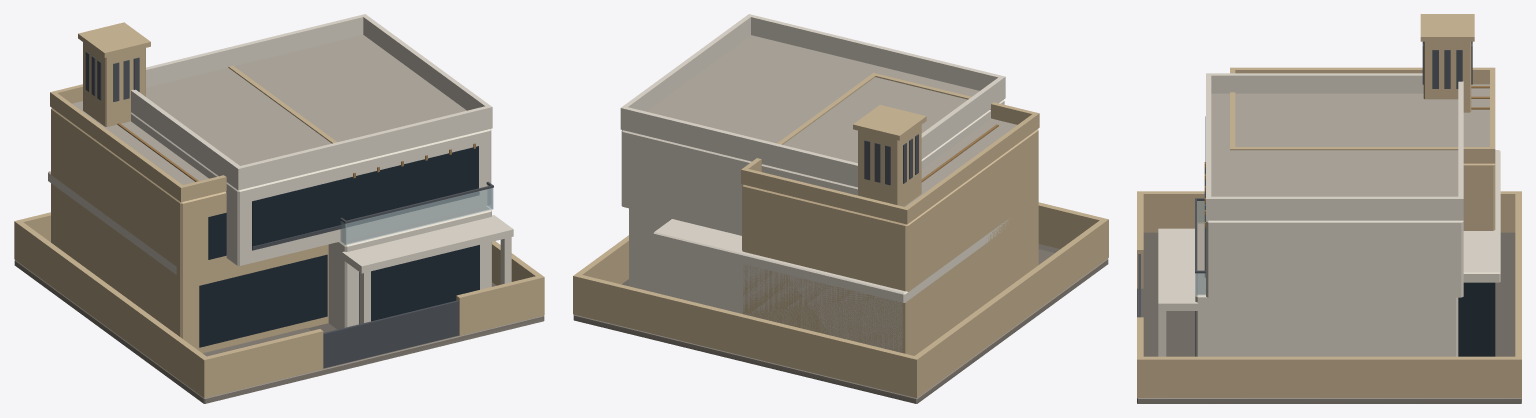
The model's file is villa.glb.
3 renders of one model, left to right at view 1: azimuth 30°, elevation 25°; view 2: azimuth 150°, elevation 25°; view 3: azimuth 270°, elevation 25°, orthographic.
Parts seen in each view (by area): view 1: villa_v0, villa_v1; view 2: villa_v0, villa_v1; view 3: villa_v0, villa_v1.
Part boxes in pixels (x1,y1,x2,y2): villa_v0: [14, 14, 544, 403]; villa_v1: [50, 22, 513, 353]; villa_v0: [573, 14, 1108, 403]; villa_v1: [629, 73, 1039, 355]; villa_v0: [1137, 73, 1521, 403]; villa_v1: [1158, 14, 1495, 356].
Size of the model in its own units: 15 by 10.05 by 14.5.
